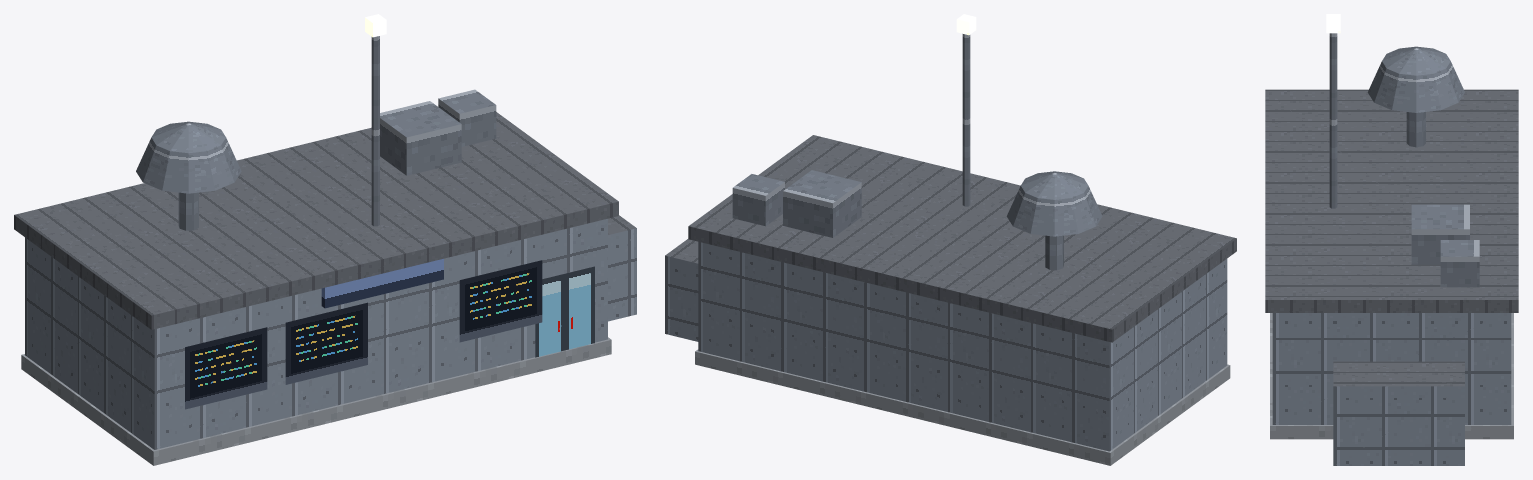
File: ops_center.glb
The picture shows the model from 3 angles, left to right: view 1: azimuth 30°, elevation 25°; view 2: azimuth 150°, elevation 25°; view 3: azimuth 270°, elevation 25°; orthographic projection. The views are drawn at different scales.
Parts seen in each view (by area): view 1: ops_center; view 2: ops_center; view 3: ops_center.
Part boxes in pixels (left/top/right/bottom): ops_center: left=14, top=14, right=636, bottom=465; ops_center: left=665, top=14, right=1236, bottom=465; ops_center: left=1265, top=14, right=1518, bottom=465.
Bounding box in the file's own units: 11.4 × 7.5 × 5.2.
9 materials, 9 textured.
